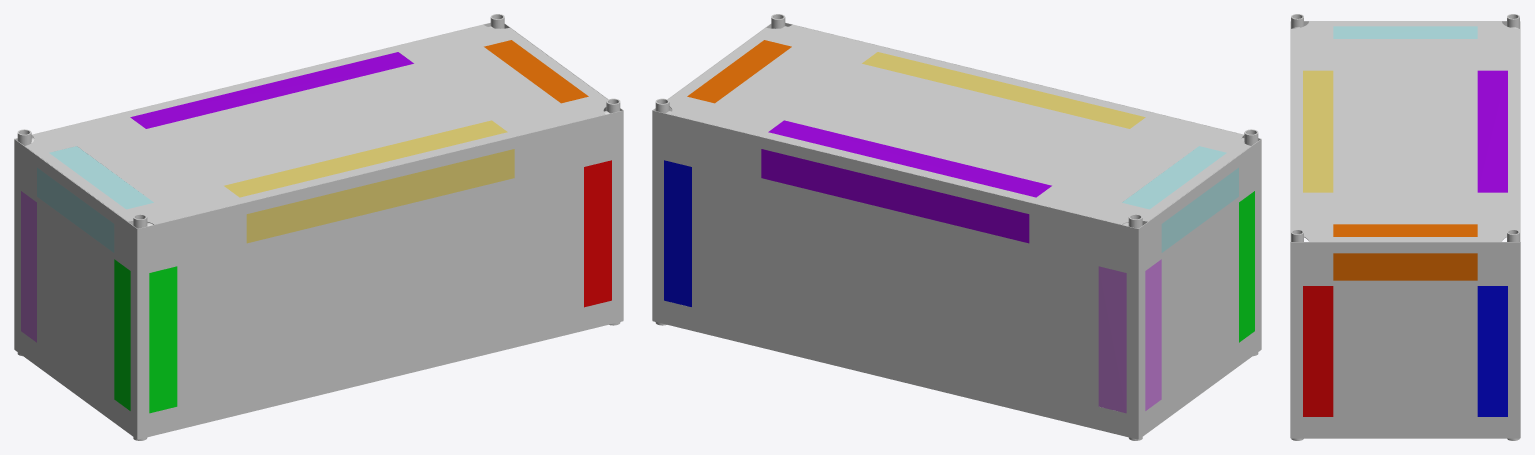
Rendered from subway_car.dae.
The picture shows the model from 3 angles, left to right: view 1: azimuth 30°, elevation 25°; view 2: azimuth 150°, elevation 25°; view 3: azimuth 270°, elevation 25°; orthographic projection. The views are drawn at different scales.
Parts seen in each view (by area): view 1: Subway Car; view 2: Subway Car; view 3: Subway Car.
Part boxes in pixels (left/top/right/bottom): Subway Car: left=14, top=14, right=623, bottom=440; Subway Car: left=652, top=14, right=1261, bottom=440; Subway Car: left=1290, top=14, right=1520, bottom=440.
Size of the model in its own units: 1.11 by 0.4855 by 0.4797.
